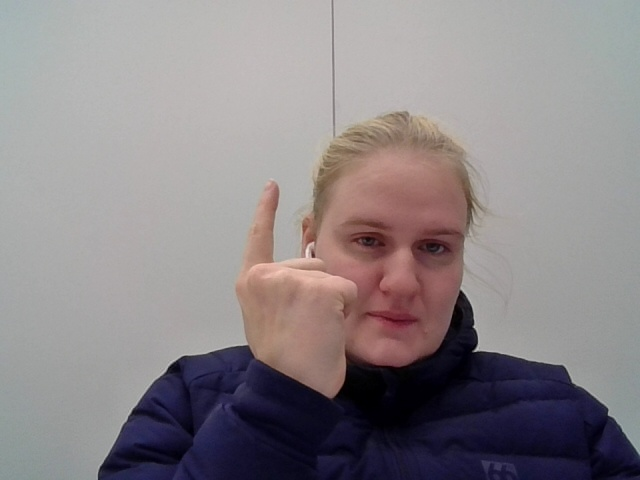up: (218, 170, 367, 408)
